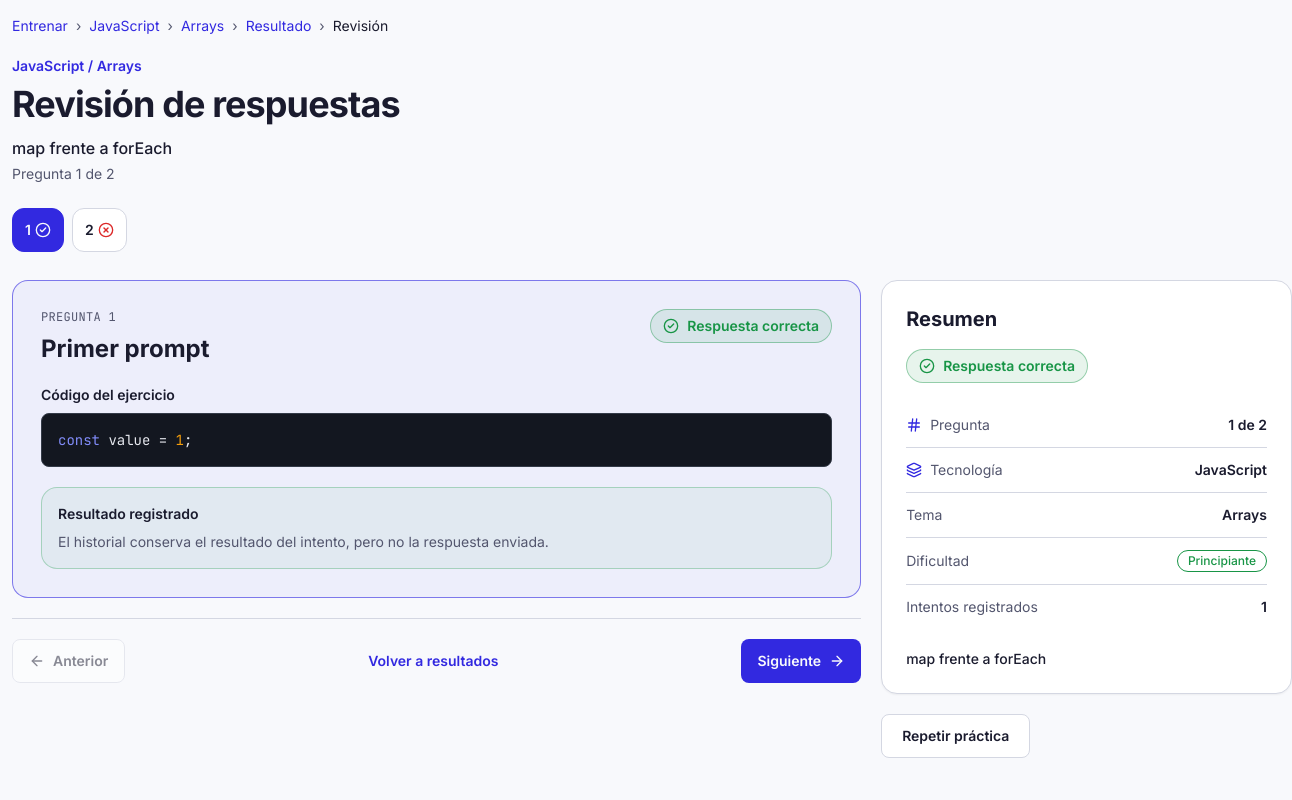
Scenario: ReviewPage › navega anterior y siguiente entre steps reales e inhabilita los extremos
This screenshot has width=1292, height=800.
Expected: the heading "Primer prompt" is shown, [41,333,210,365]
Expected: the button "Anterior" is disabled, [12,639,125,683]
Click the button "Siguiente". click: (801, 661)
box: [741,639,861,683]
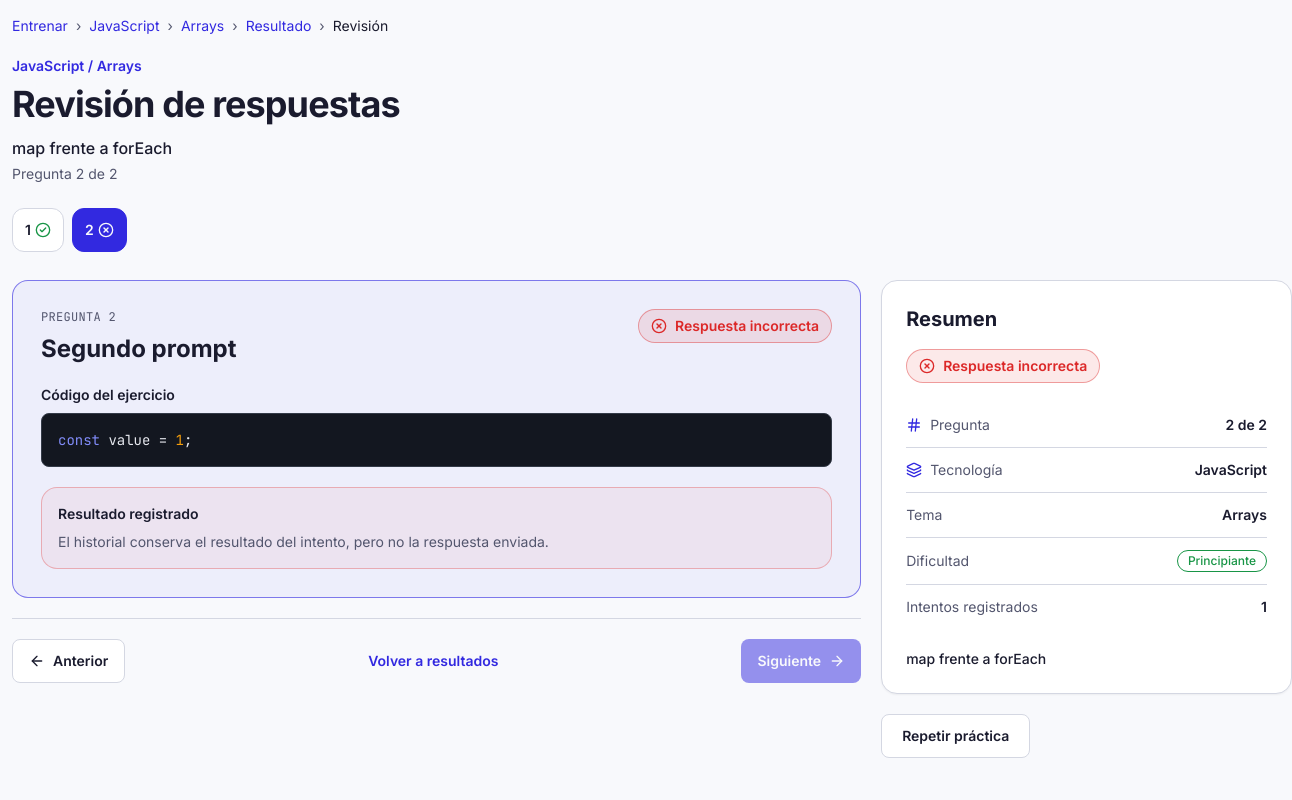
Expected: the heading "Segundo prompt" is shown, [41,333,236,365]
Expected: the button "Siguiente" is disabled, [741,639,861,683]
Click the button "Anterior". click: (69, 661)
box: [12,639,125,683]
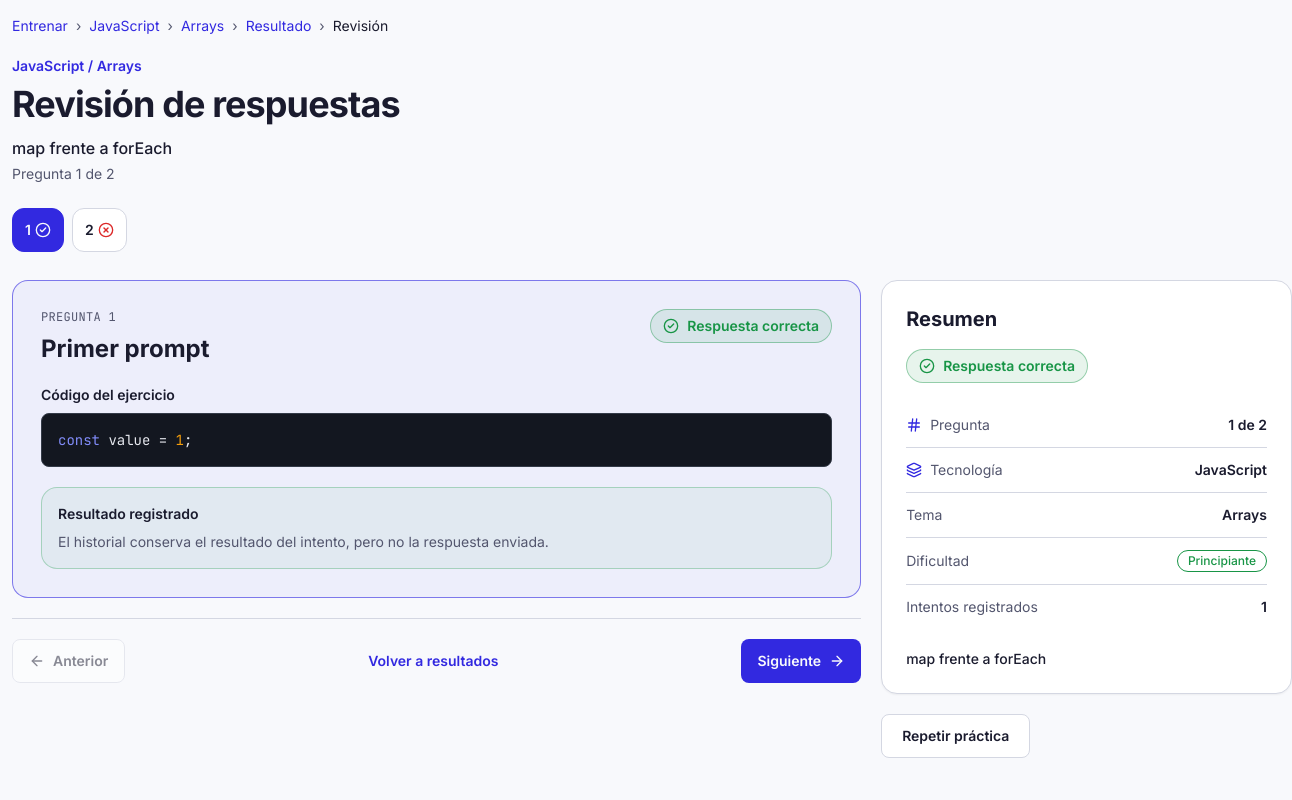
Expected: the heading "Primer prompt" is shown, [41,333,210,365]
